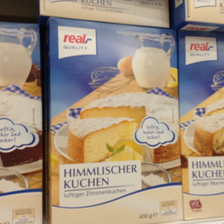cake: (44, 16, 182, 224), (177, 27, 224, 217)
